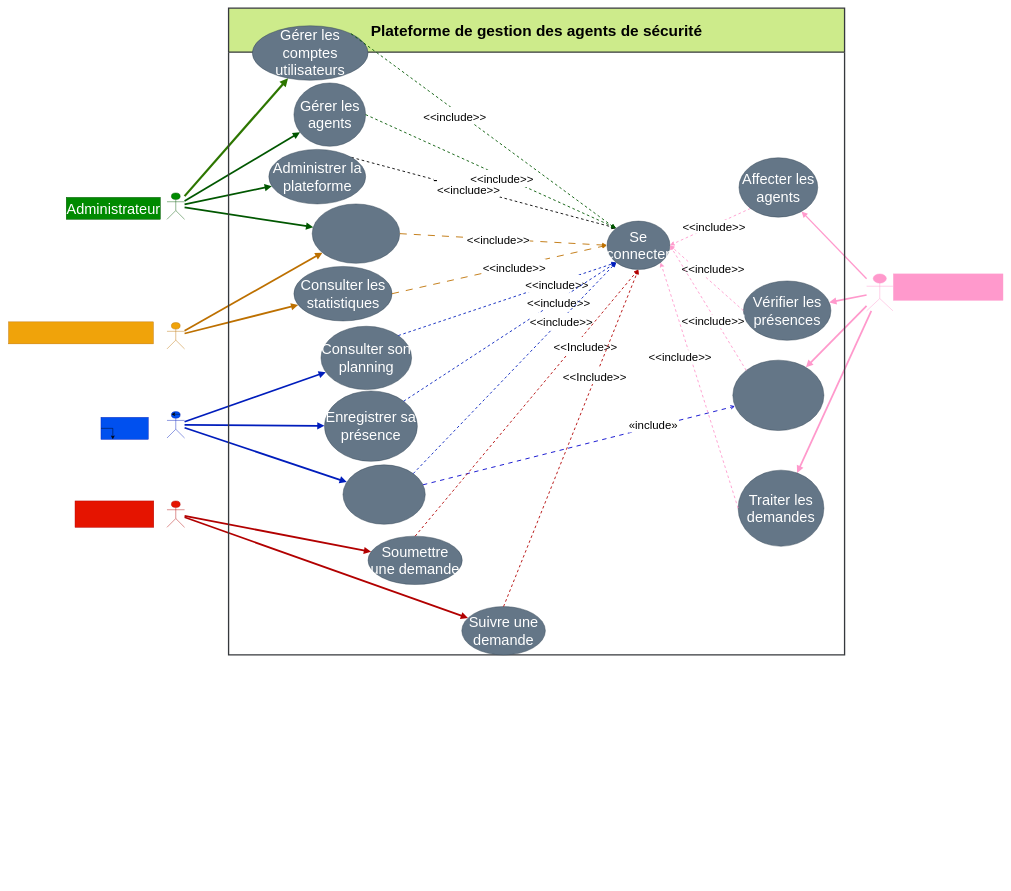
The diagram is 1011 pixels wide and 891 high, and some of its shapes have lost their labels. Each missing label, with the centre of its shape:
"Agent" belongs at [124,428].
"Chef de sécurité" belongs at [948,286].
"Consulter les incidents" belongs at [778,395].
"Consulter les rapports" belongs at [356,233].
"Enseignant" belongs at [114,513].
"Responsable Domaine" belongs at [80,332].
"Signaler un incident" belongs at [384,494].
